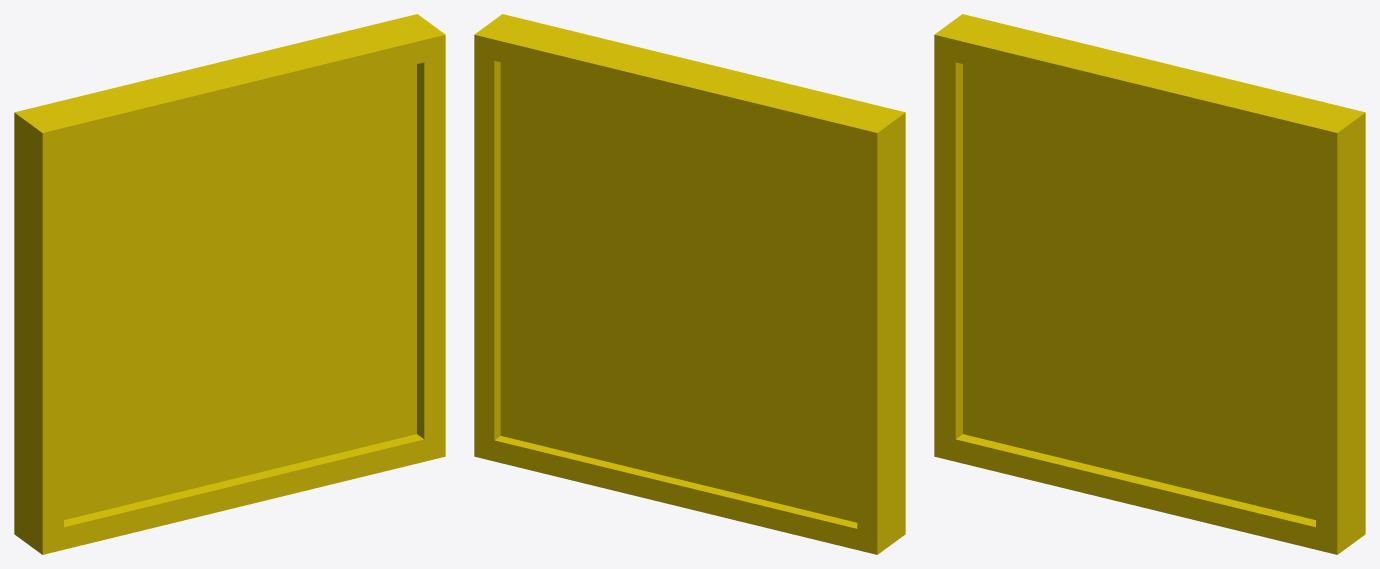
Rendered from coin.dae.
3 views of the same model, side by side, from view 1: azimuth 30°, elevation 25°; view 2: azimuth 150°, elevation 25°; view 3: azimuth 330°, elevation 25° (orthographic).
Visible parts, largest first — view 1: Cube; view 2: Cube; view 3: Cube.
Part boxes in pixels (x1=…): Cube: x1=14, y1=14, x2=445, y2=554; Cube: x1=474, y1=14, x2=905, y2=554; Cube: x1=934, y1=14, x2=1365, y2=554.
Bounding box in the file's own units: 2 × 0.2431 × 2.
